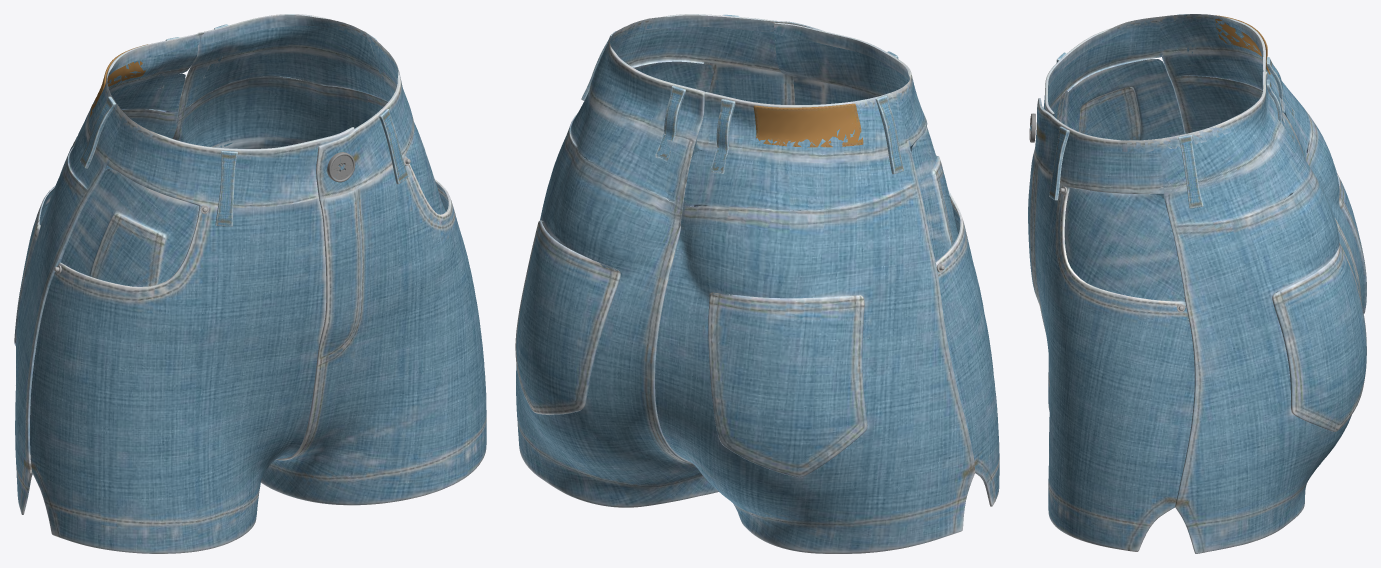
File: short_jeans.glb
The picture shows the model from 3 angles, left to right: view 1: azimuth 30°, elevation 25°; view 2: azimuth 150°, elevation 25°; view 3: azimuth 270°, elevation 25°; orthographic projection. The views are drawn at different scales.
Parts seen in each view (by area): view 1: short_jeans; view 2: short_jeans; view 3: short_jeans.
Part boxes in pixels (x1,y1,x2,y2): short_jeans: (14,14,486,553); short_jeans: (515,14,999,553); short_jeans: (1028,14,1366,553).
Bounding box in the file's own units: 0.4632 × 0.4316 × 0.3292.
Materials: 1 (1 with a texture image).
